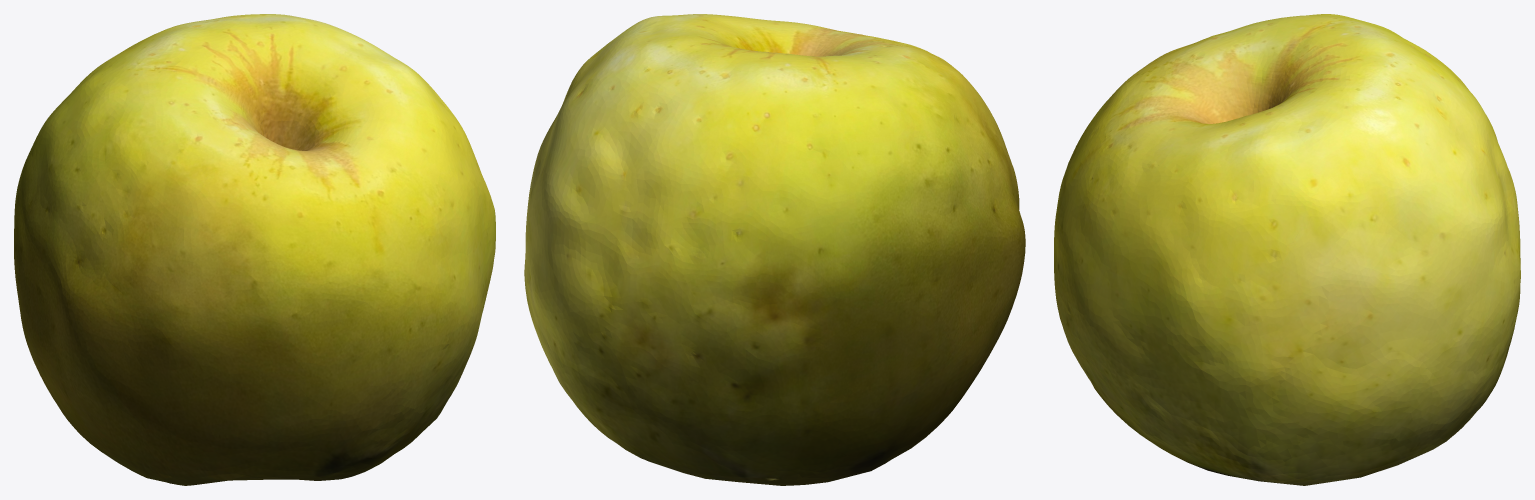
The model's file is Green Apple.glb.
3 views of the same model, side by side, from view 1: azimuth 30°, elevation 25°; view 2: azimuth 150°, elevation 25°; view 3: azimuth 270°, elevation 25° (orthographic). The views are drawn at different scales.
Bounding box in the file's own units: 0.2893 × 0.2624 × 0.2822.
Materials: 1 (1 with a texture image).
